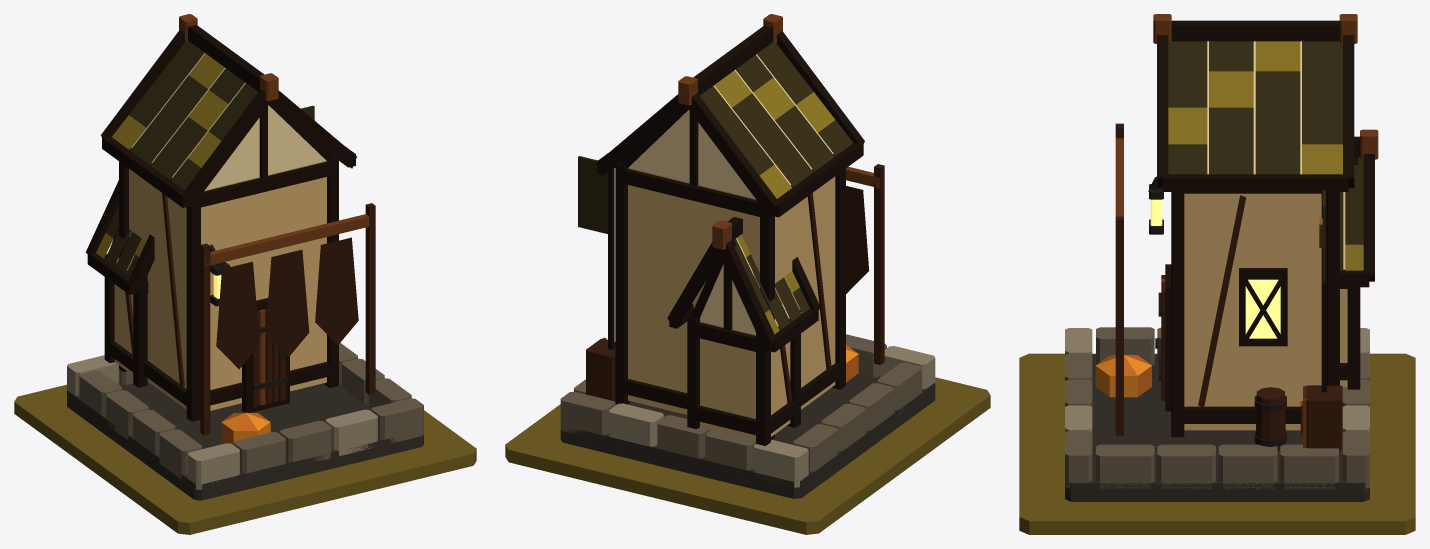
The model's file is tannery_t6.glb.
3 views of the same model, side by side, from view 1: azimuth 30°, elevation 25°; view 2: azimuth 150°, elevation 25°; view 3: azimuth 270°, elevation 25° (orthographic). The views are drawn at different scales.
Visible parts, largest first — view 1: MMR | tannery | T06 Architecture.001, MMR | tannery | Tier 06 Ground.001, MMR | tannery | T06 Autumn Dressing.001; view 2: MMR | tannery | T06 Architecture.001, MMR | tannery | Tier 06 Ground.001; view 3: MMR | tannery | T06 Architecture.001, MMR | tannery | Tier 06 Ground.001, MMR | tannery | T06 Autumn Dressing.001.
Boxes of the visible parts, bbox=[...] form: MMR | tannery | T06 Architecture.001: bbox=[67, 14, 423, 500]; MMR | tannery | Tier 06 Ground.001: bbox=[14, 384, 476, 534]; MMR | tannery | T06 Autumn Dressing.001: bbox=[221, 412, 270, 444]; MMR | tannery | T06 Architecture.001: bbox=[560, 14, 935, 498]; MMR | tannery | Tier 06 Ground.001: bbox=[505, 377, 990, 534]; MMR | tannery | T06 Architecture.001: bbox=[1065, 14, 1378, 501]; MMR | tannery | Tier 06 Ground.001: bbox=[1019, 353, 1415, 534]; MMR | tannery | T06 Autumn Dressing.001: bbox=[1095, 355, 1151, 397].
Bounding box in the file's own units: 1.3 × 1.57 × 1.3.
Materials: 2 (1 with a texture image).
